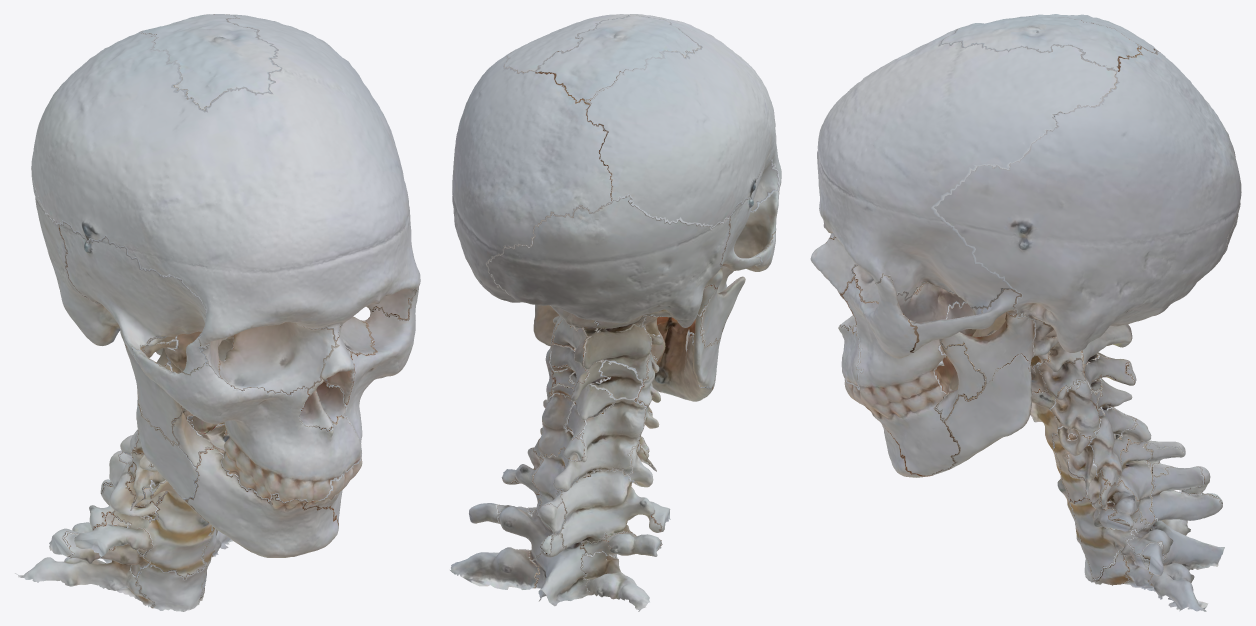
3 renders of one model, left to right at view 1: azimuth 30°, elevation 25°; view 2: azimuth 150°, elevation 25°; view 3: azimuth 270°, elevation 25°, orthographic. The views are drawn at different scales.
Visible parts, largest first — view 1: Object_47, Object_41, Object_48, Object_38, Object_15, Object_37, Object_14, Object_13, Object_28, Object_34, Object_36, Object_27 (+41 smaller); view 2: Object_18, Object_53, Object_15, Object_20, Object_14, Object_6, Object_55, Object_41, Object_27, Object_54, Object_46, Object_43 (+35 smaller); view 3: Object_47, Object_52, Object_44, Object_19, Object_37, Object_41, Object_18, Object_12, Object_15, Object_53, Object_49, Object_30 (+33 smaller).
Boxes of the visible parts, x1,y1,x2,y2 form: Object_47: (106, 56, 399, 611); Object_41: (55, 51, 378, 216); Object_48: (201, 72, 369, 191); Object_38: (136, 131, 365, 311); Object_15: (132, 14, 321, 298); Object_37: (147, 43, 388, 515); Object_14: (81, 82, 243, 355); Object_13: (87, 210, 169, 321); Object_28: (82, 40, 350, 538); Object_34: (93, 284, 383, 537); Object_36: (137, 191, 337, 513); Object_27: (74, 52, 340, 543); Object_18: (505, 24, 670, 611); Object_53: (452, 92, 711, 260); Object_15: (537, 23, 670, 420); Object_20: (594, 89, 694, 186); Object_14: (563, 35, 756, 417); Object_6: (499, 184, 595, 297); Object_55: (519, 71, 607, 178); Object_41: (531, 34, 764, 196); Object_27: (557, 43, 699, 485); Object_54: (506, 111, 740, 229); Object_46: (538, 527, 636, 606); Object_43: (470, 71, 686, 399); Object_47: (865, 40, 1097, 584); Object_52: (858, 161, 1193, 471); Object_44: (882, 206, 1039, 450); Object_19: (940, 95, 1115, 472); Object_37: (819, 19, 1092, 336); Object_41: (966, 94, 1055, 228); Object_18: (827, 61, 1116, 207); Object_12: (889, 283, 1021, 396); Object_15: (1001, 16, 1136, 402); Object_53: (1092, 152, 1197, 271); Object_49: (980, 88, 1217, 420); Object_30: (858, 168, 1150, 499).
Bounding box in the file's own units: 1.74 × 3.26 × 2.31.
1 material, 1 textured.
